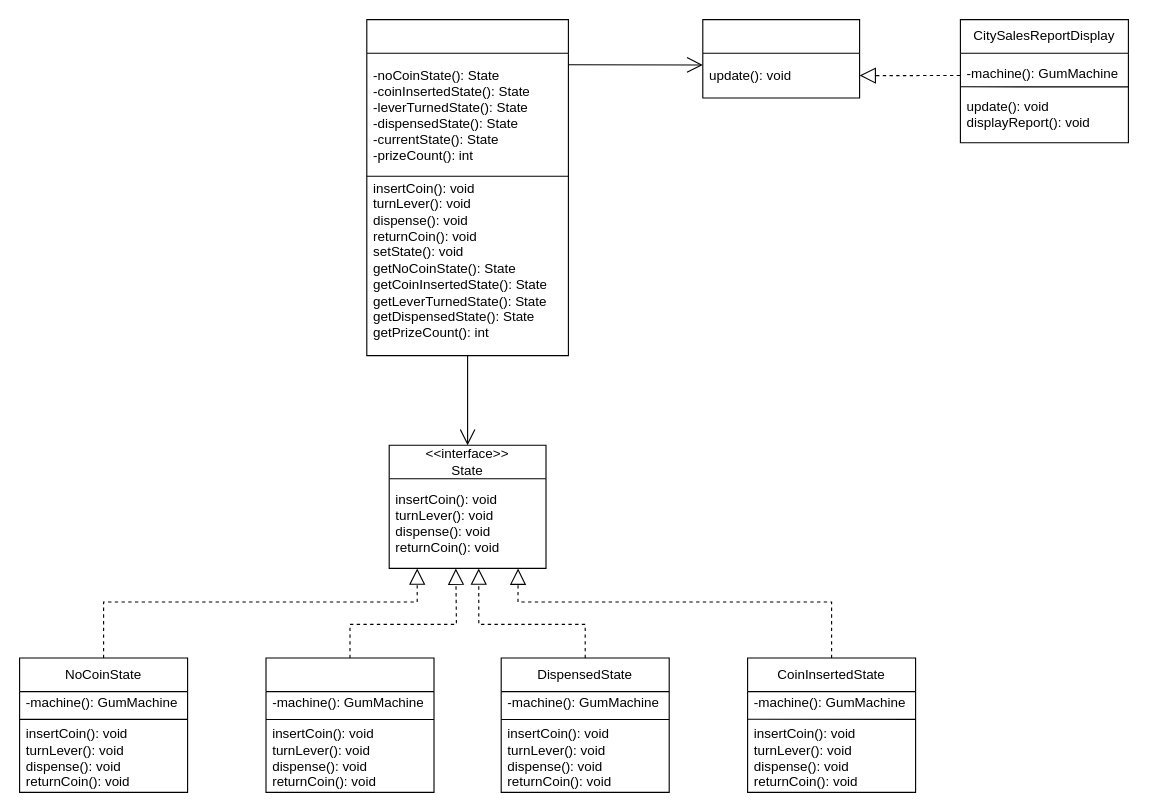
Some shapes in this 1149 by 812 pixel diagram are drawn without their labels. Here are the shapes that lost their labels. From the top down, the box of each, then its label:
(702, 18, 860, 98): <<interface>> Observer
(366, 18, 568, 356): GumMachine
(265, 657, 434, 792): LeverTurnedState
